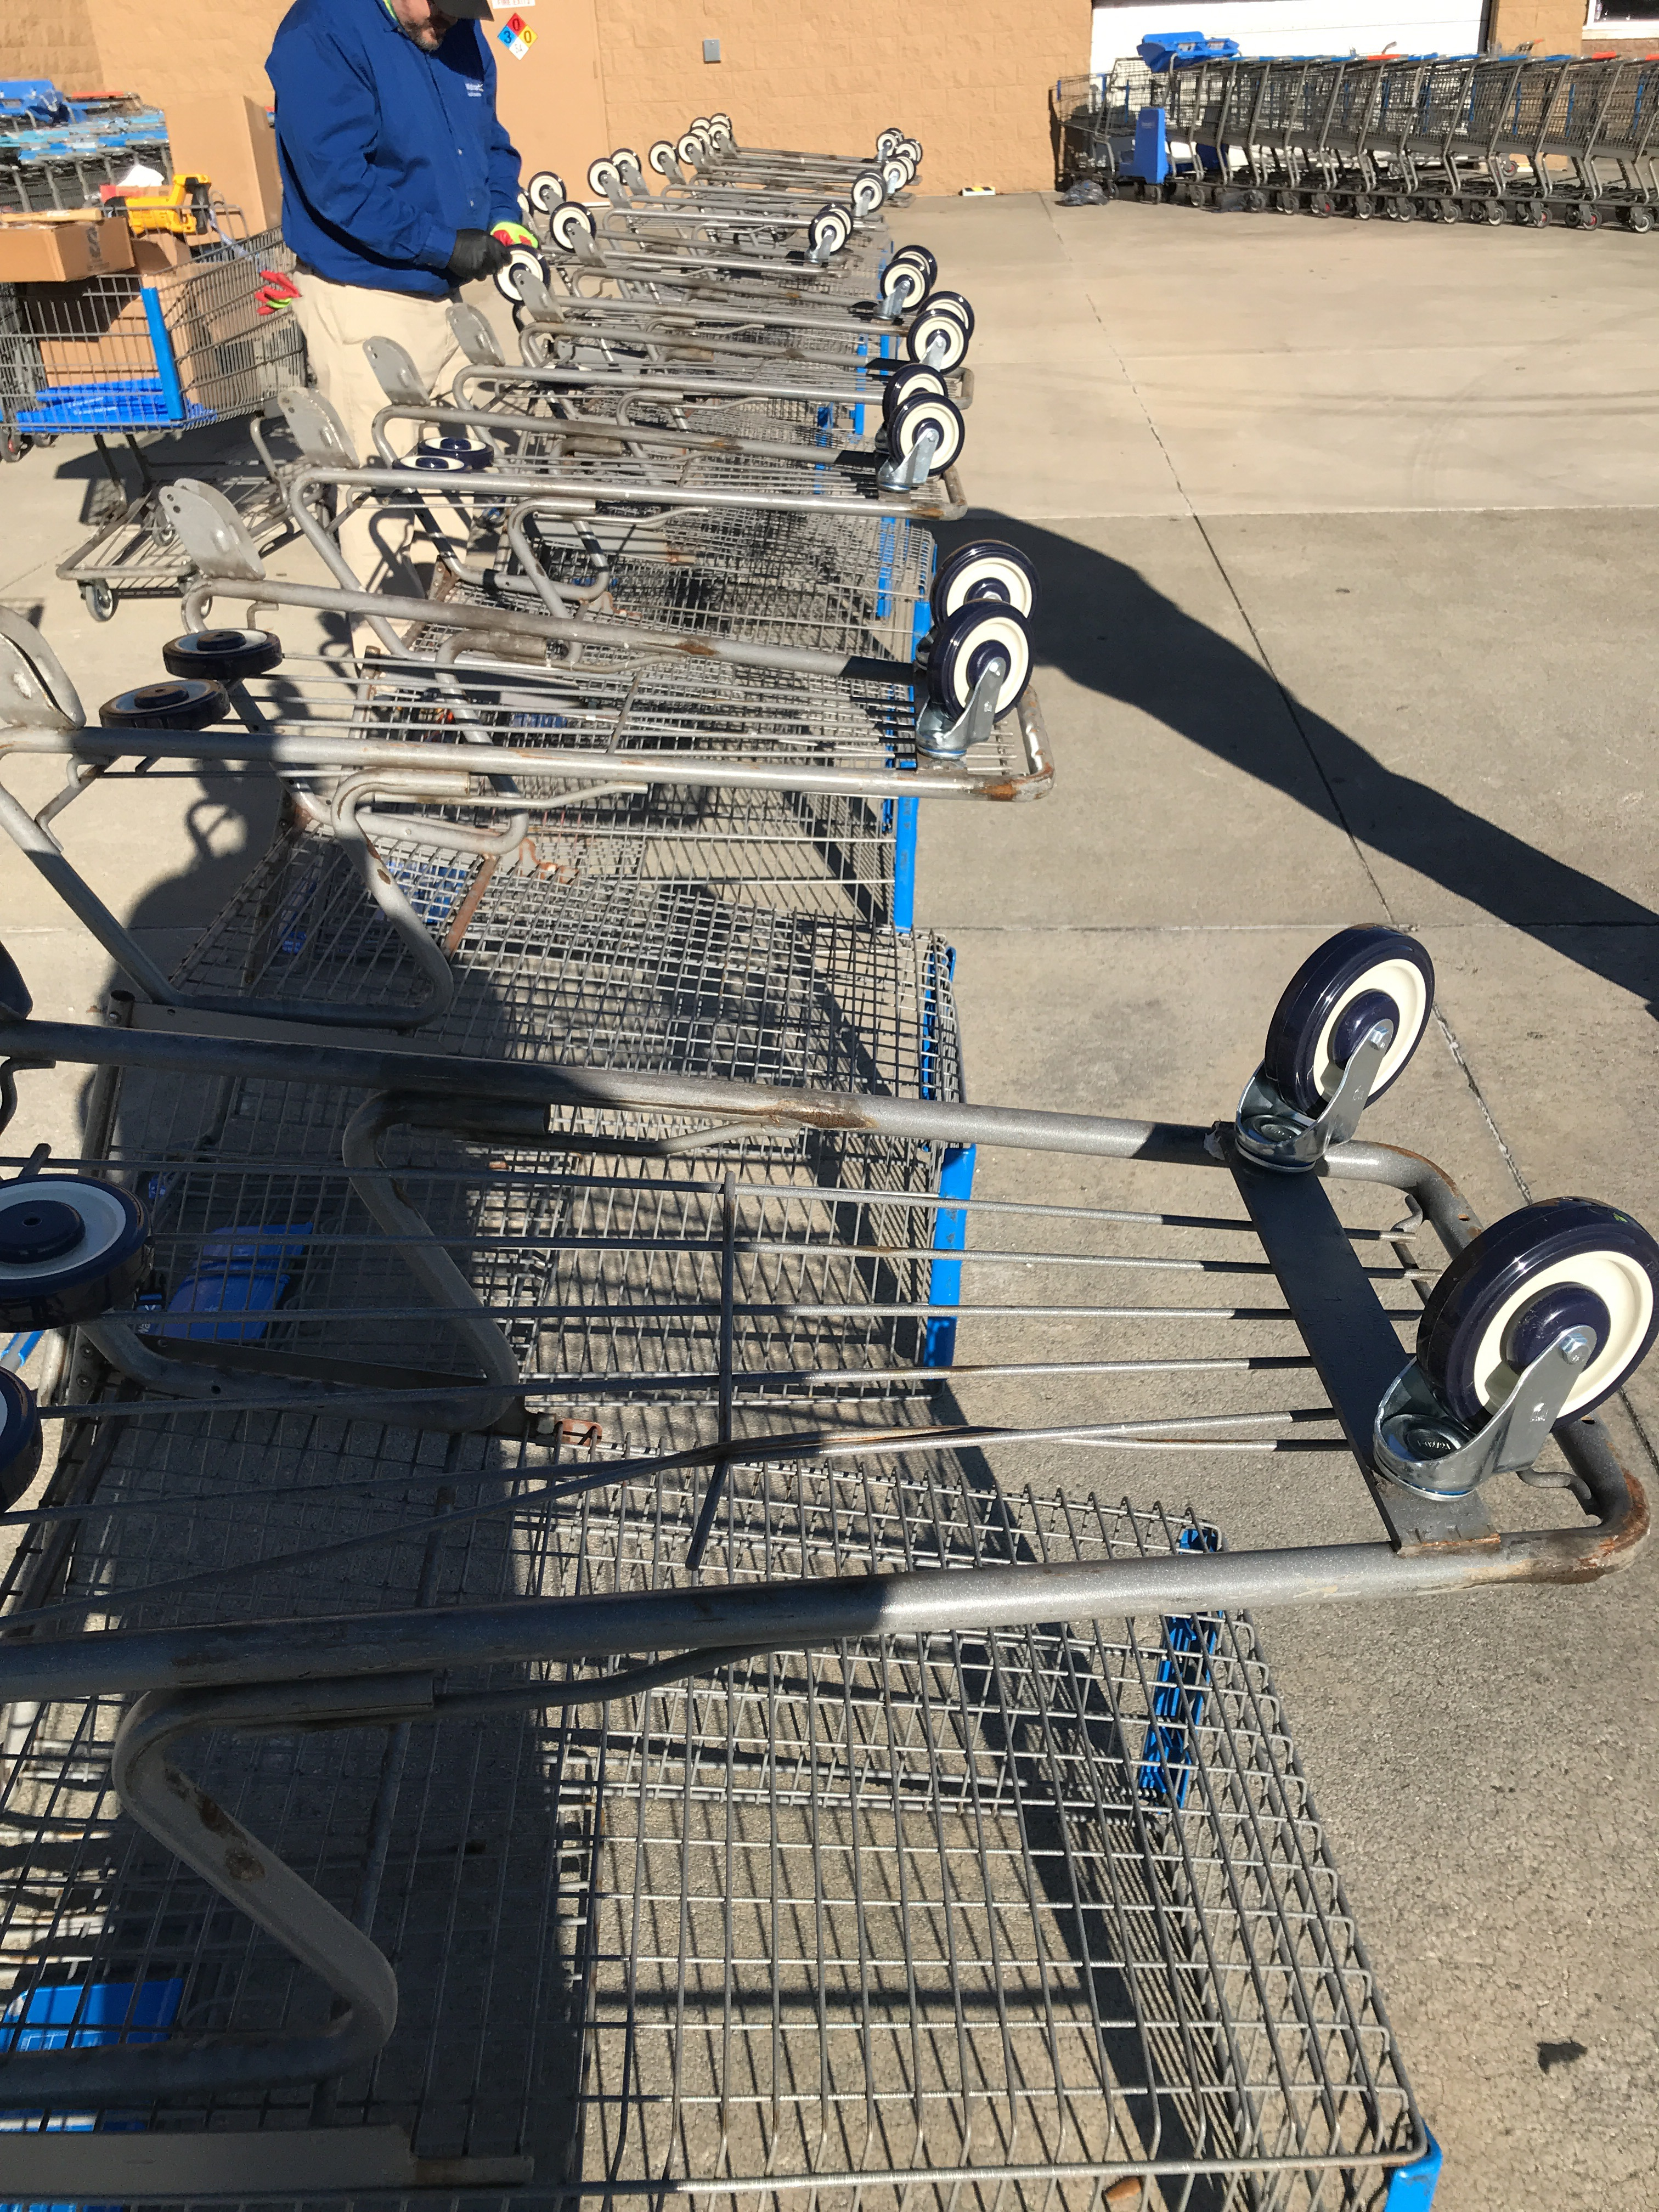rust: (1554, 1496, 1650, 1580)
